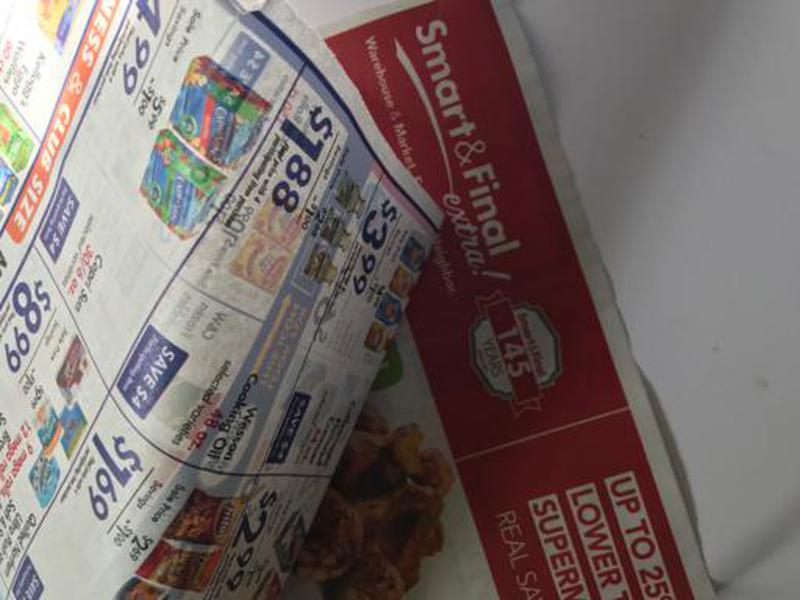paper: (1, 1, 719, 599)
